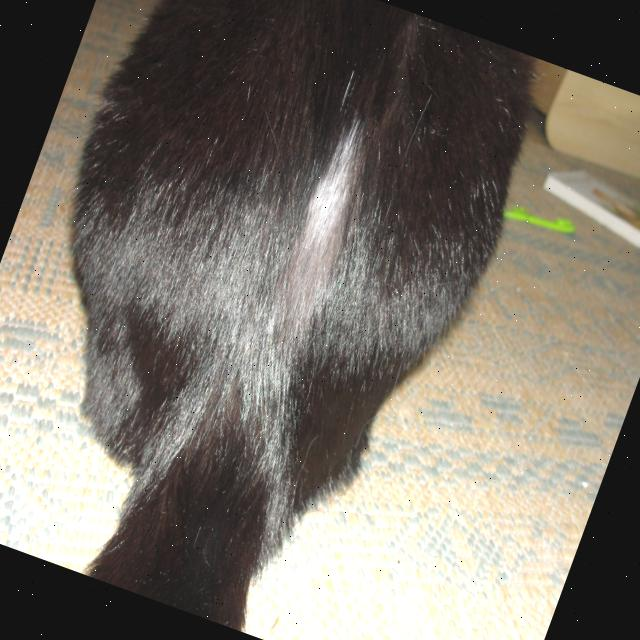cat-hairloss: (250, 105, 394, 345)
